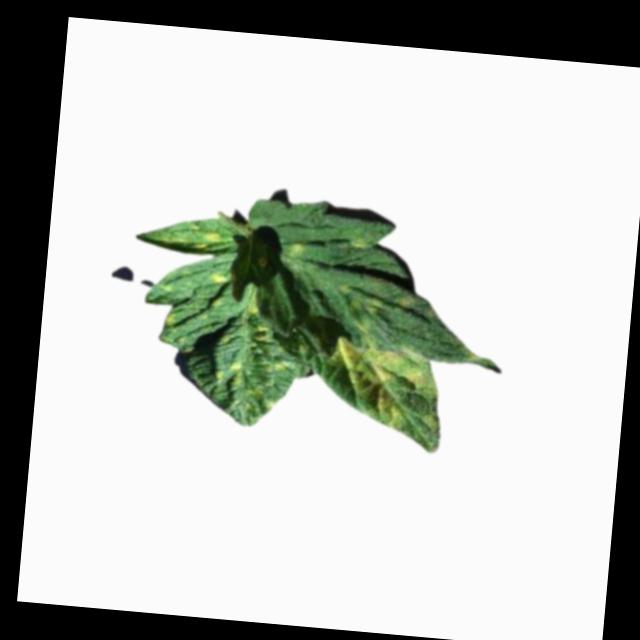Leaf_Mold: (326, 334, 442, 433), (206, 297, 294, 416), (332, 285, 416, 340), (189, 224, 222, 254), (290, 240, 304, 265), (206, 271, 226, 286)
